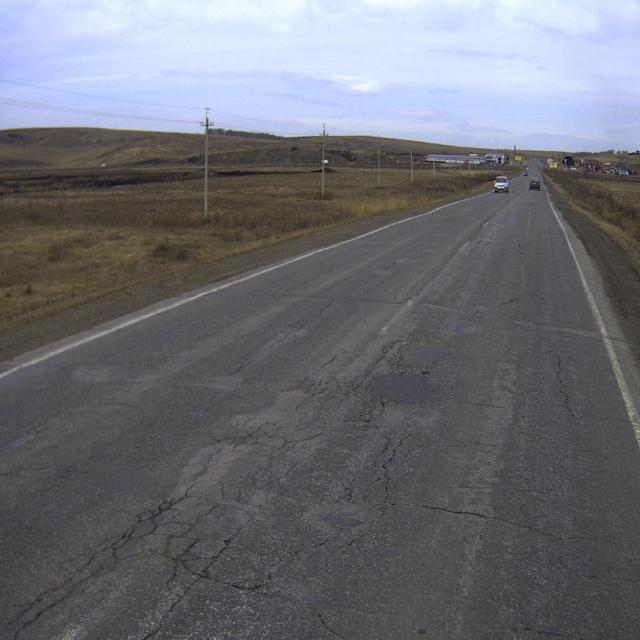road: (0, 168, 640, 639)
